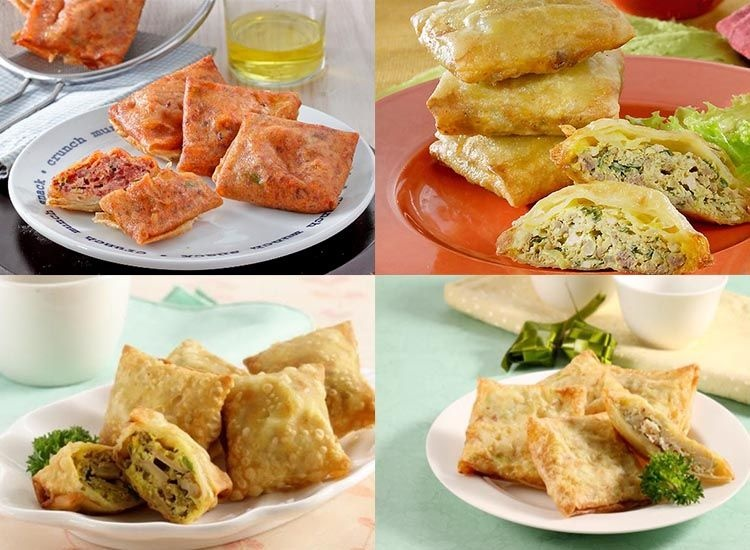martabak: (407, 1, 748, 274), (32, 320, 373, 527), (43, 53, 359, 247), (456, 349, 737, 520)
